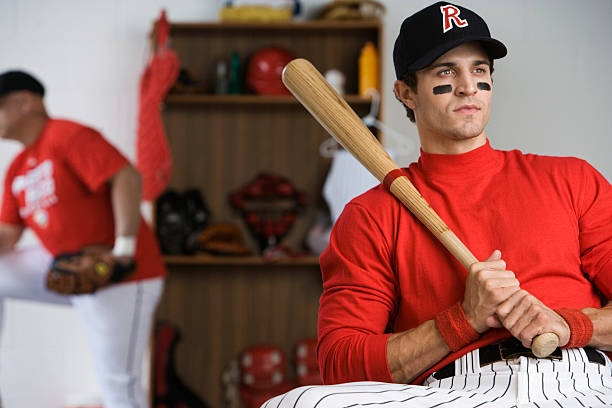bita: (279, 58, 553, 364)
